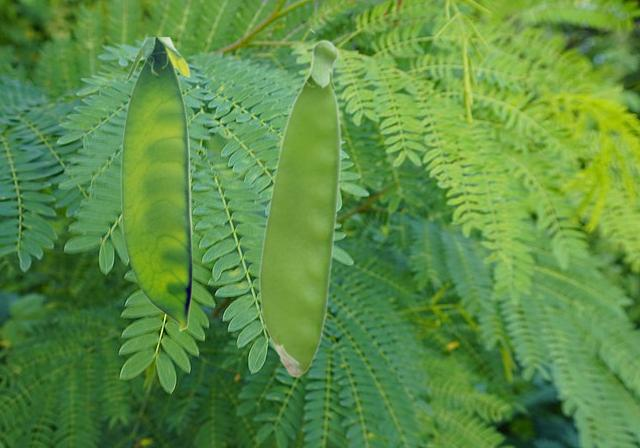pea: (258, 38, 341, 376), (120, 37, 191, 330)
